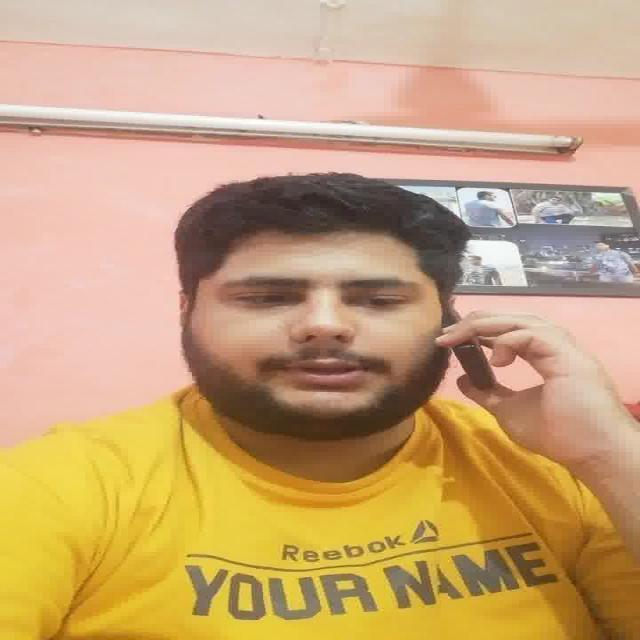Phone: (452, 335, 503, 397)
